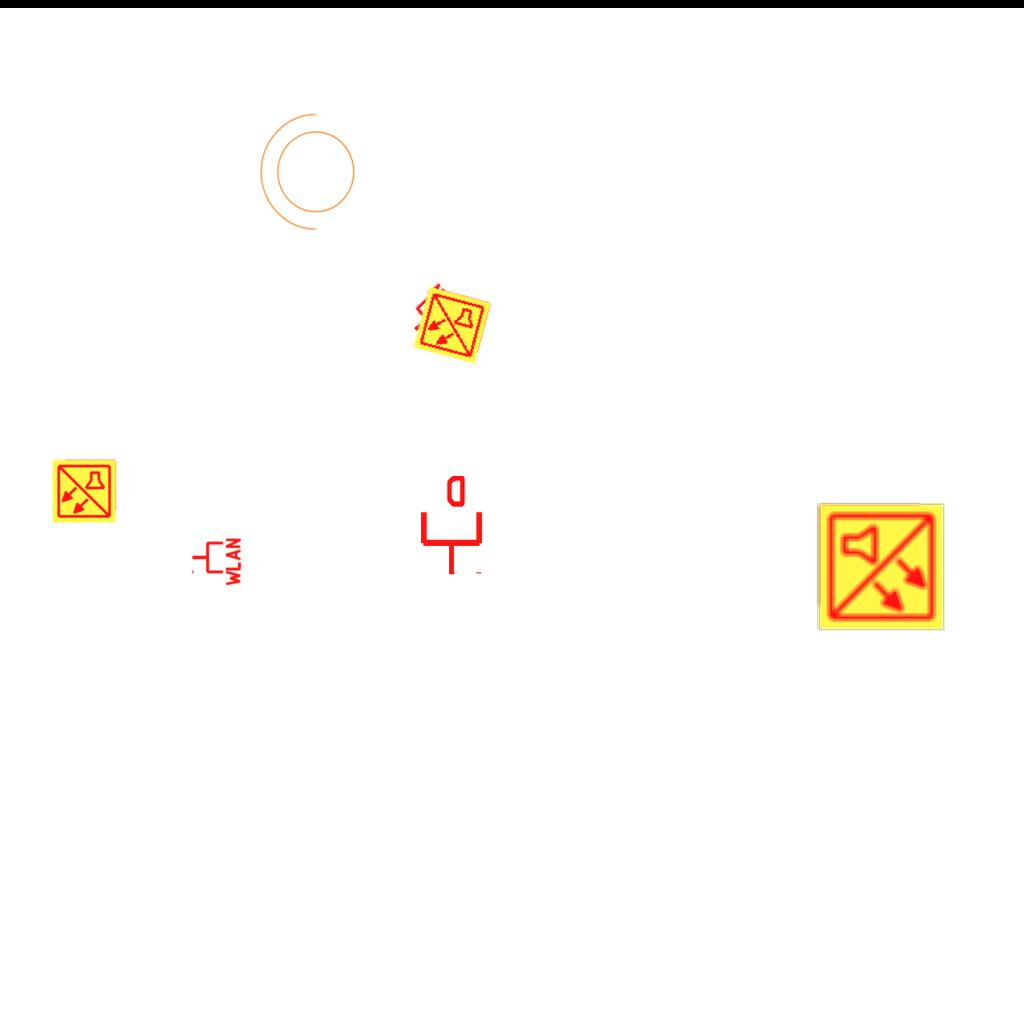Datenanschluss_einfach: (417, 476, 486, 576)
OKW_Multisensormelder_(Kombination_optischer_Rauch-Kahlenmonoxid_Waerme-Melder): (815, 501, 947, 633), (411, 284, 493, 366), (51, 458, 117, 524)
Scheinwerfer_fuer_Alarmbeleuchtung: (255, 109, 367, 241)
WLAN: (399, 280, 473, 354), (190, 536, 242, 588)
